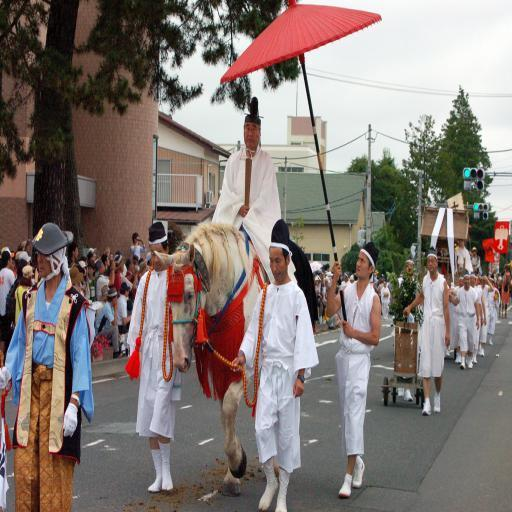horse: (152, 216, 318, 498)
